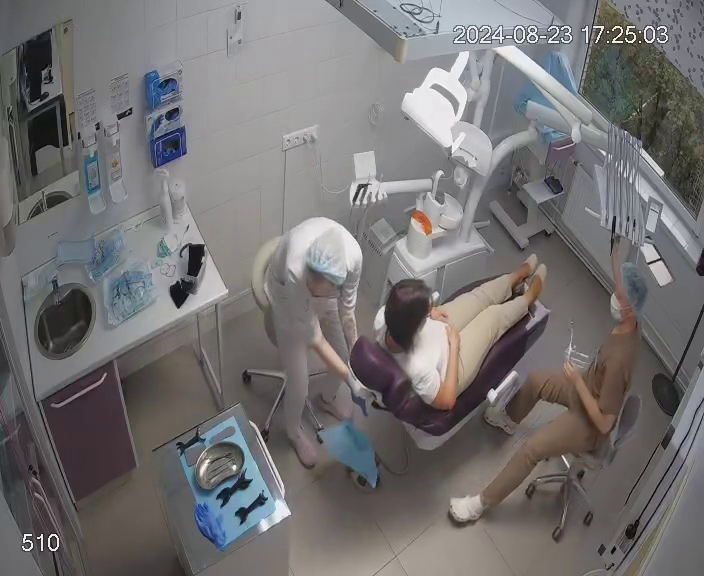Patient: (349, 232, 552, 454)
